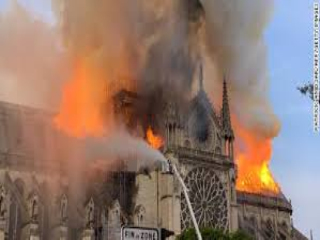fire: (49, 66, 120, 132), (231, 123, 283, 199)
smoke: (132, 3, 287, 123)
